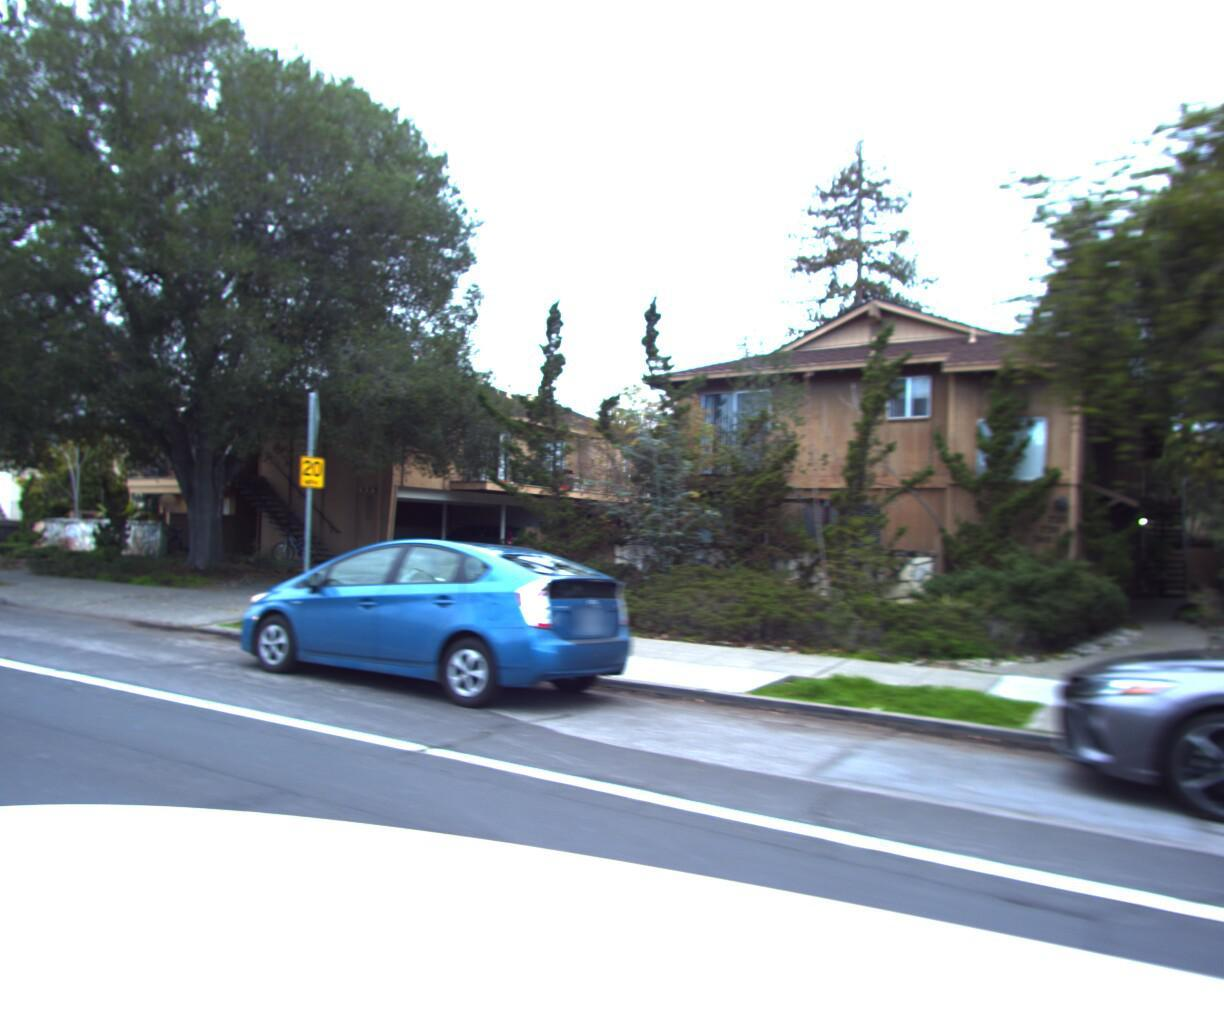car: (215, 525, 666, 726), (1059, 554, 1224, 1024), (423, 523, 542, 567)
